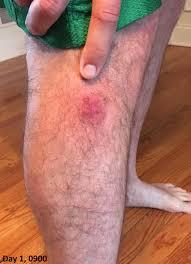Spider: (77, 93, 106, 125)
